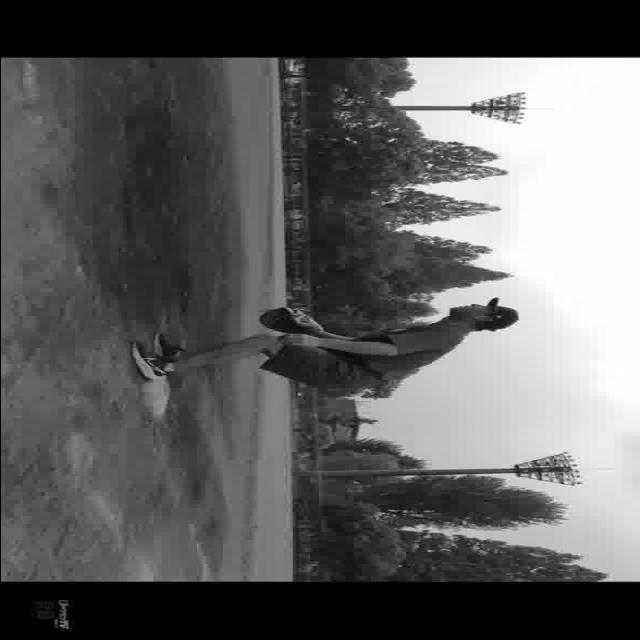base: (145, 376, 168, 421)
baseball_glove: (252, 307, 322, 335)
shoe: (128, 340, 172, 384), (149, 329, 187, 366)
